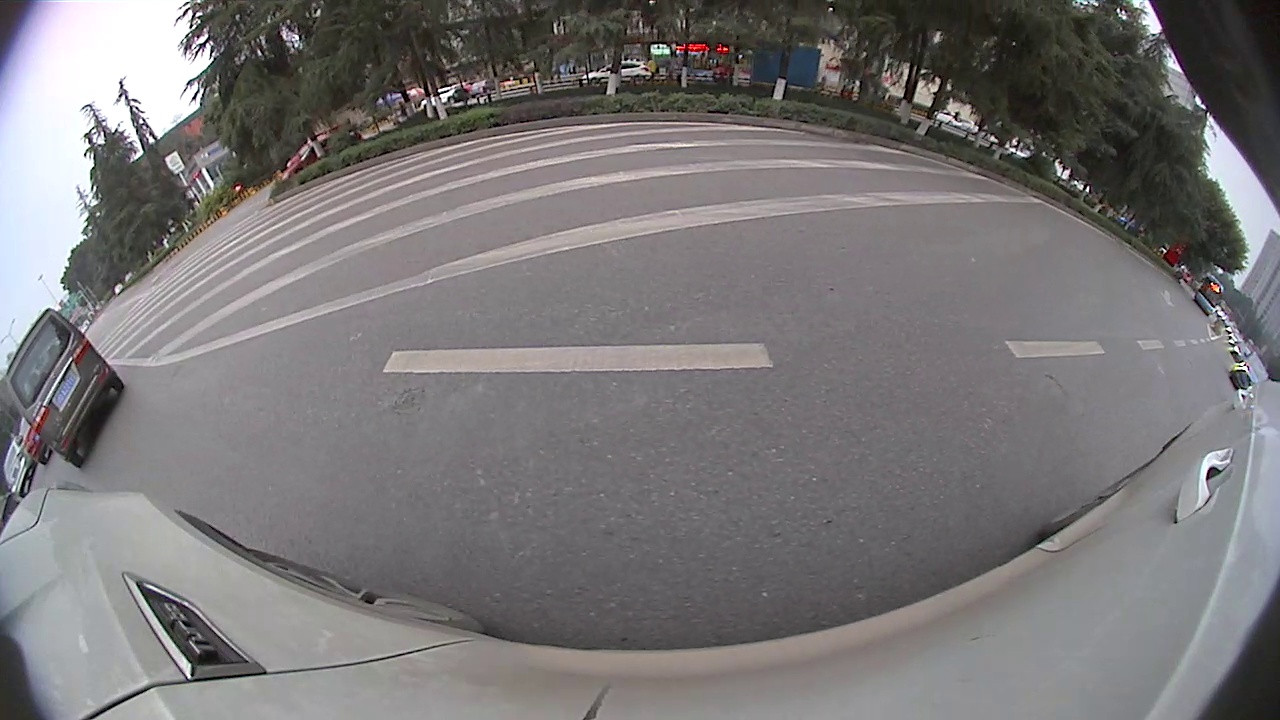bus: (1193, 267, 1229, 318)
car: (1, 304, 130, 472), (1, 432, 36, 504), (1226, 345, 1272, 398)
